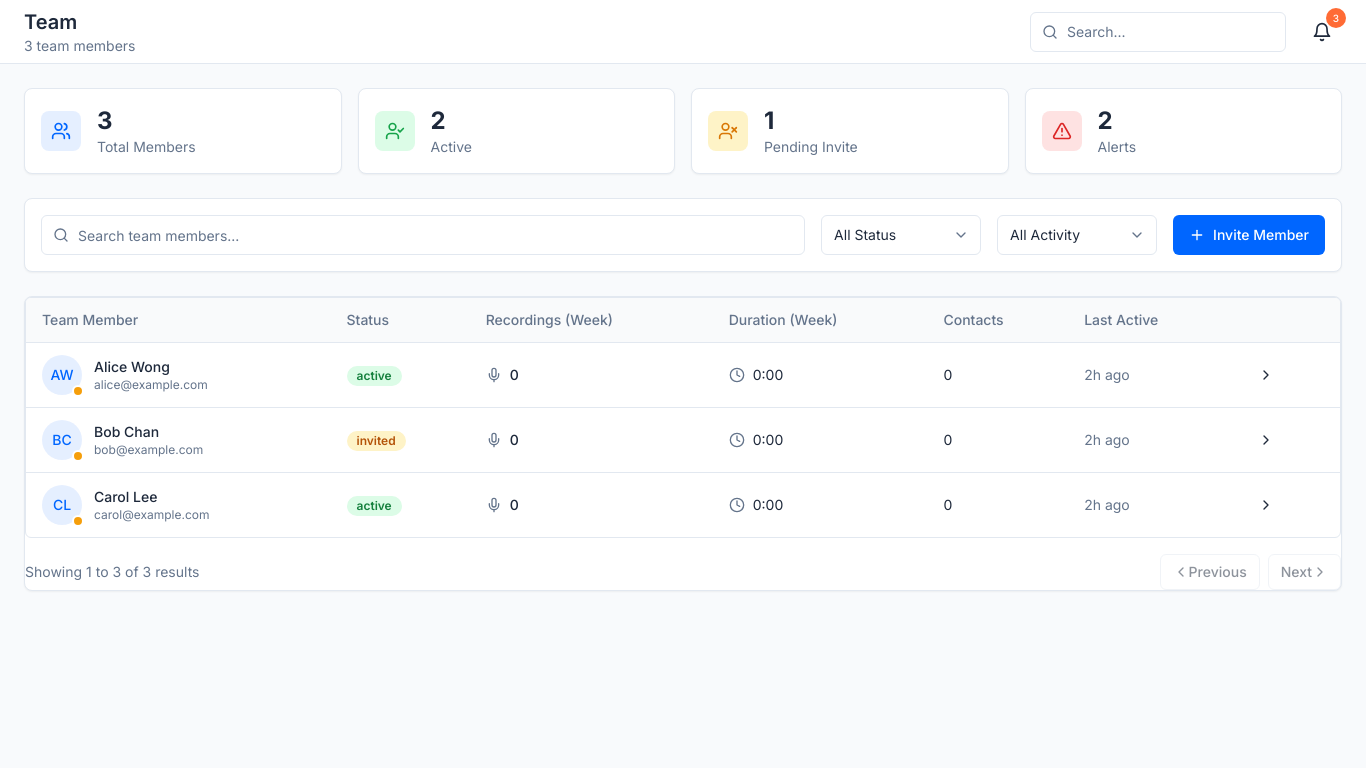
Test: TeamPage — status filter › filters to only active members
// First select is the status filter
Select "Active" in the 1st dropdown at (901, 235), box [821,215,981,255]
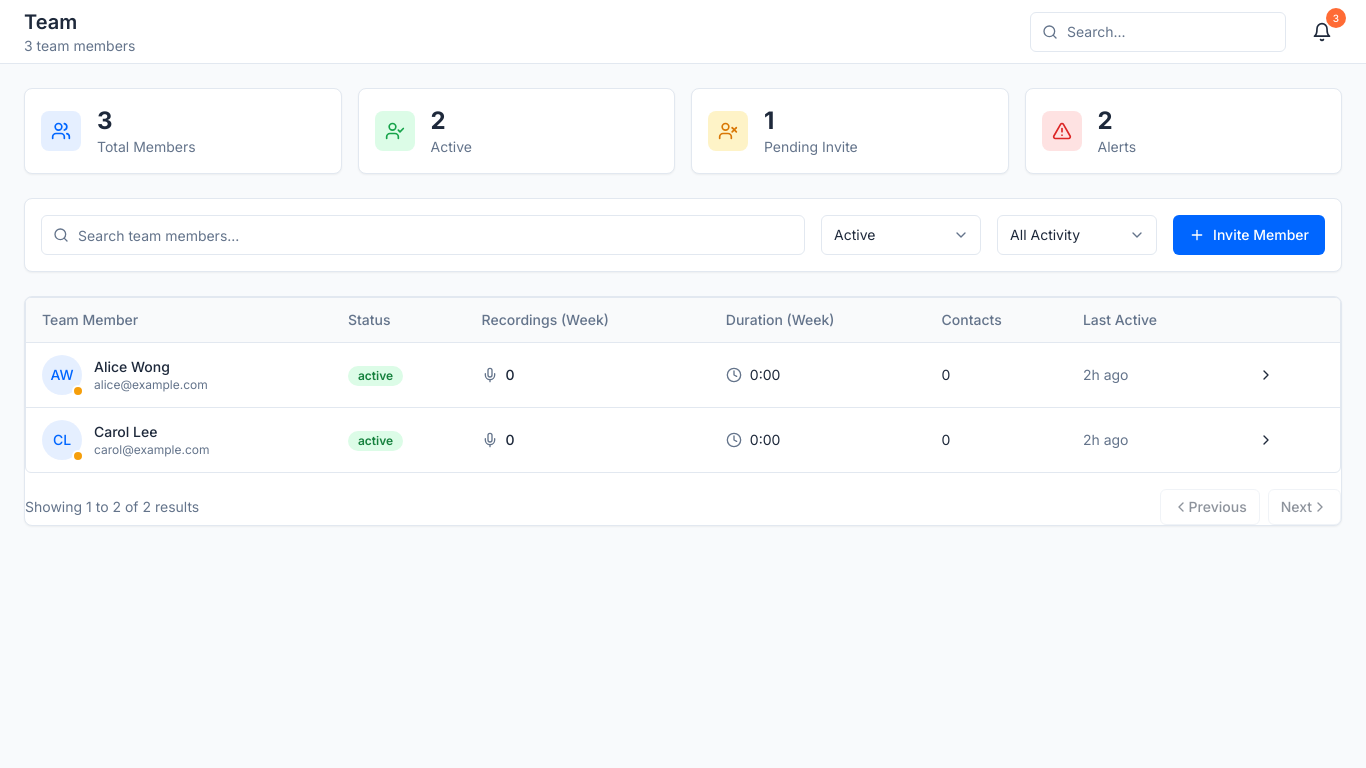
Expected: the text "Alice Wong" is shown, [94,357,170,377]
Expected: the text "Carol Lee" is shown, [94,422,158,442]
Expected: the text "Bob Chan" is gone
